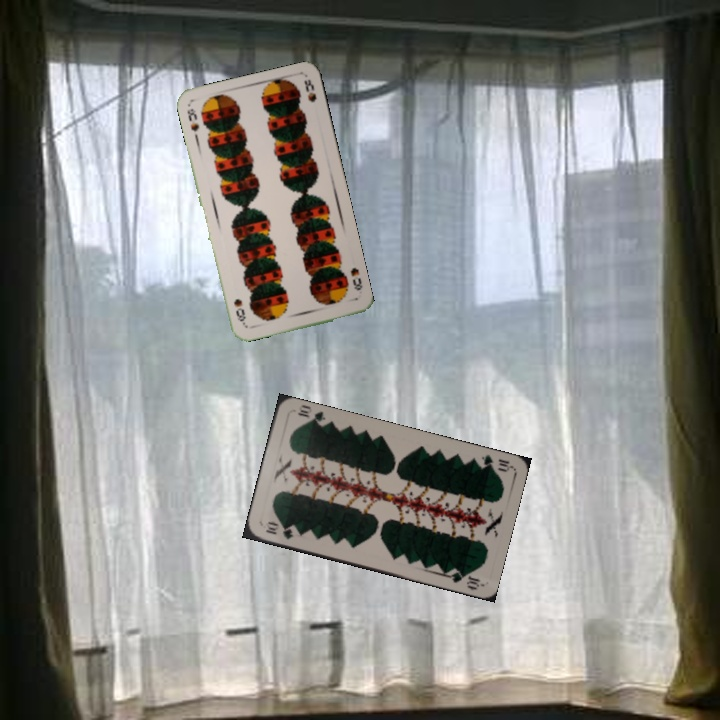G10: (472, 451, 513, 474), (261, 518, 296, 542)
S8: (346, 263, 365, 293), (183, 105, 202, 134)
